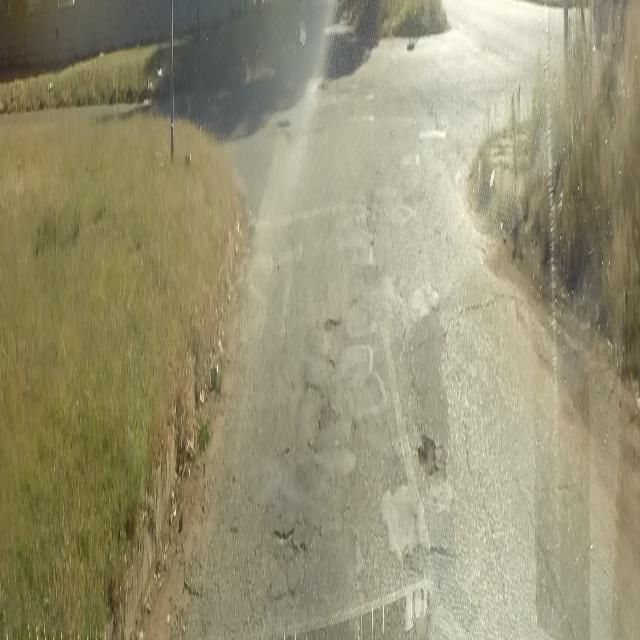pothole: (416, 422, 440, 478), (272, 526, 308, 558), (322, 305, 342, 332)
